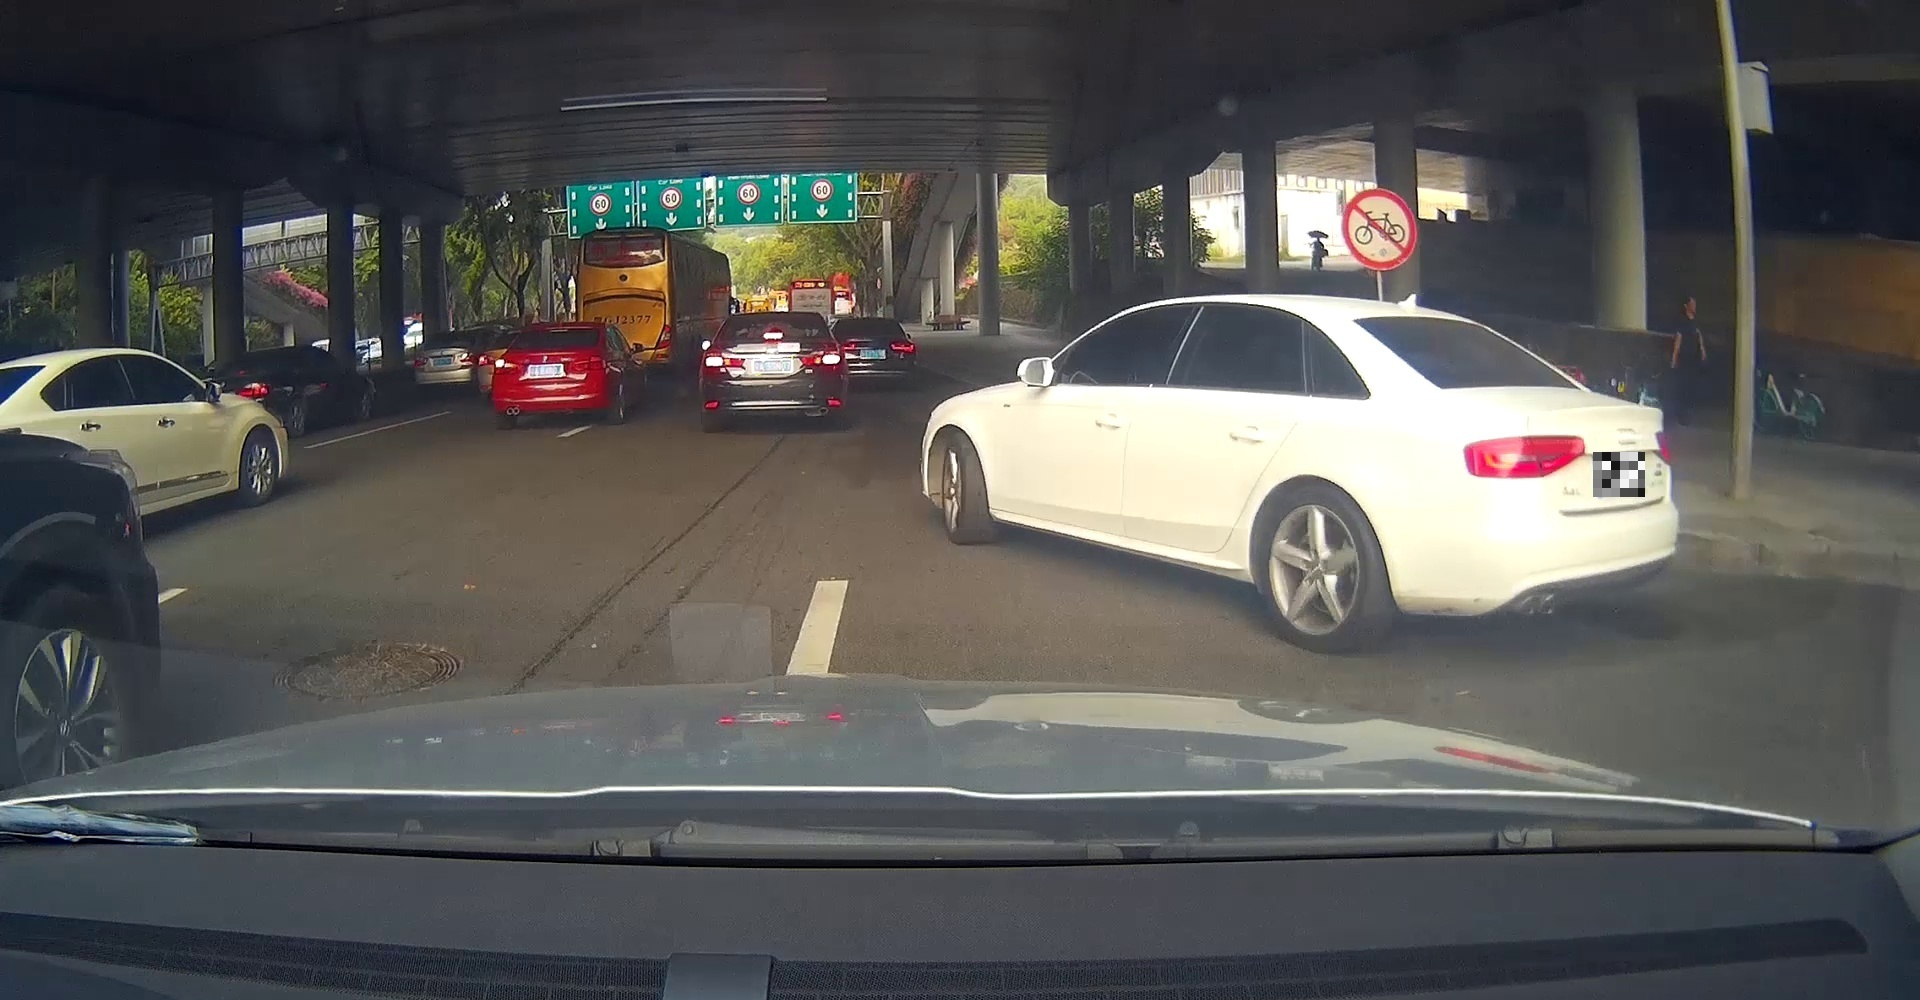L_light: (1462, 434, 1585, 478), (703, 354, 745, 373), (493, 359, 524, 376), (413, 357, 427, 368)
R_light: (801, 349, 842, 368), (1653, 429, 1672, 466), (571, 357, 606, 372), (458, 353, 479, 365)
T_light: (1418, 315, 1448, 321), (763, 332, 783, 339), (550, 329, 568, 332), (448, 332, 461, 335)
day-brake: (698, 312, 850, 434)
day-left: (491, 321, 613, 430)
day-no: (1351, 298, 1680, 654), (411, 327, 480, 395)
plate_1: (1592, 452, 1644, 497)
